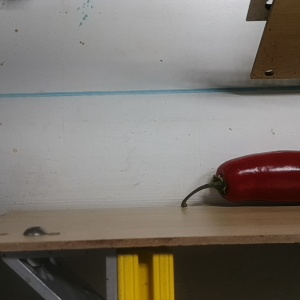Cut Point: (206, 160, 239, 202)
